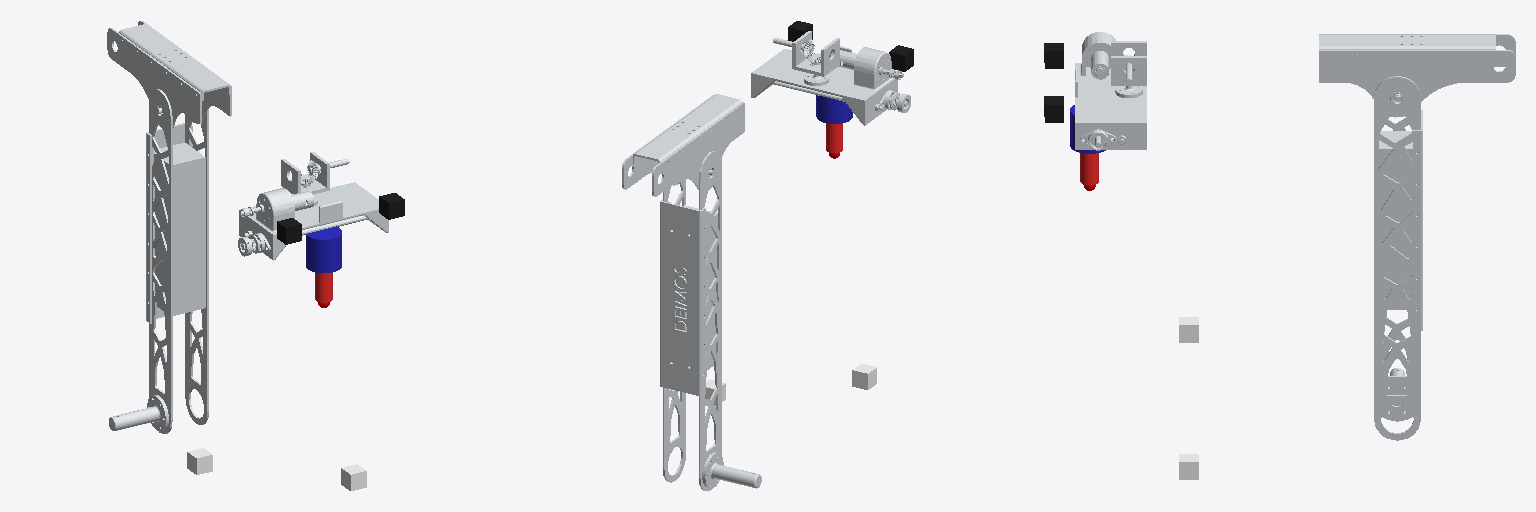
--- What the picture shows (computed from the rendered views, not written in the file) ---
3 views of the same robot in one strip: view 1: azimuth 30°, elevation 25°; view 2: azimuth 150°, elevation 25°; view 3: azimuth 270°, elevation 25° (orthographic).
Robot: Arm_Urdf — 18 links, 17 joints (6 revolute, 1 prismatic, 10 fixed); root link world; default pose: every joint at zero.
Visible links, largest first — view 1: Link_2, Link_3, Link_6, pointer_base, Link_5, camera_link_gripper_left, camera_link_base_left, camera_link_base_right, pointer_tip, camera_link_gripper_right; view 2: Link_2, Link_6, Link_3, Link_5, pointer_base, camera_link_base_right, pointer_tip; view 3: Link_2, Link_3, Link_6, Link_5, pointer_tip, camera_link_gripper_left.
Boxes of the visible links, left/top/right/bottom form: Link_2: left=109, top=89, right=208, bottom=433; Link_3: left=107, top=21, right=231, bottom=128; Link_6: left=238, top=174, right=388, bottom=260; pointer_base: left=306, top=226, right=341, bottom=272; Link_5: left=281, top=152, right=349, bottom=194; camera_link_gripper_left: left=379, top=193, right=404, bottom=219; camera_link_base_left: left=341, top=464, right=366, bottom=490; camera_link_base_right: left=187, top=448, right=212, bottom=474; pointer_tip: left=315, top=273, right=332, bottom=307; camera_link_gripper_right: left=277, top=218, right=301, bottom=244; Link_2: left=660, top=151, right=761, bottom=490; Link_6: left=751, top=46, right=910, bottom=125; Link_3: left=622, top=94, right=744, bottom=196; Link_5: left=773, top=31, right=839, bottom=76; pointer_base: left=816, top=95, right=852, bottom=123; camera_link_base_right: left=852, top=363, right=876, bottom=389; pointer_tip: left=826, top=123, right=842, bottom=158; Link_2: left=1374, top=76, right=1422, bottom=440; Link_3: left=1319, top=34, right=1515, bottom=117; Link_6: left=1075, top=32, right=1146, bottom=150; Link_5: left=1111, top=41, right=1146, bottom=85; pointer_tip: left=1080, top=153, right=1098, bottom=190; camera_link_gripper_left: left=1044, top=96, right=1063, bottom=122.
Size in the robot's own frame: 0.265 by 0.5985 by 0.555 metres.
Meshes: 7 distinct files referenced, 4 mesh visuals loaded (4 binary STL); not drawn: 3 (reference not matched to a file when rendering).

URDF robot description (Arm_Urdf):
<?xml version="1.0" encoding="utf-8" ?>
<!-- This URDF was automatically created by SolidWorks to URDF Exporter! Originally created by Stephen Brawner ([email redacted]) 
     Commit Version: 1.6.0-4-g7f85cfe  Build Version: 1.6.7995.38578
     For more information, please see http://wiki.ros.org/sw_urdf_exporter -->
<robot name="Arm_Urdf">
    <material name="black">
        <color rgba="0.15 0.15 0.15 1.0"/>
    </material>
    <material name="red">
        <color rgba="0.8 0.2 0.2 1.0"/>
    </material>
    <link name="base_link">
        <inertial>
            <origin xyz="-0.0108454625152952 5.41174924359317E-05 0.006809784336333" rpy="0 0 0" />
            <mass value="0.77116648882986" />
            <inertia ixx="0.000698139677914449" ixy="-9.98098781596937E-09" ixz="-4.42589020292821E-09" iyy="0.000247085234791679" iyz="-7.75794099442475E-09" izz="0.000718421438540256" />
        </inertial>
        <visual>
            <origin xyz="0 0 0" rpy="0 0 0" />
            <geometry>
                <mesh filename="package://arm_control/meshes/base_link.STL" />
            </geometry>
            <material name="">
                <color rgba="0.650980392156863 0.619607843137255 0.588235294117647 1" />
            </material>
        </visual>
        <collision>
            <origin xyz="0 0 0" rpy="0 0 0" />
            <geometry>
                <mesh filename="package://arm_control/meshes/base_link.STL" />
            </geometry>
        </collision>
    </link>
    <link name="world" />
    <joint name="world_joint" type="fixed">
        <origin xyz="0 0 0.0" rpy="0 0 0" />
        <parent link="world" />
        <child link="base_link" />
    </joint>
    <link name="Link_1">
        <inertial>
            <origin xyz="0.00202559488051276 0.0292417340051791 0.0299779266003479" rpy="0 0 0" />
            <mass value="2.19576081627391" />
            <inertia ixx="0.00622314668686051" ixy="2.69943075030139E-08" ixz="-1.96744672740614E-07" iyy="0.00460468862088576" iyz="-6.43893757821027E-05" izz="0.00970799857789177" />
        </inertial>
        <visual>
            <origin xyz="0 0 0" rpy="0 0 0" />
            <geometry>
                <mesh filename="package://arm_control/meshes/Link_1.STL" />
            </geometry>
            <material name="">
                <color rgba="0.529411764705882 0.549019607843137 0.549019607843137 1" />
            </material>
        </visual>
        <collision>
            <origin xyz="0 0 0" rpy="0 0 0" />
            <geometry>
                <mesh filename="package://arm_control/meshes/Link_1.STL" />
            </geometry>
        </collision>
    </link>
    <joint name="Joint_1" type="revolute">
        <origin xyz="0 0 0.073" rpy="0 0 0" />
        <parent link="base_link" />
        <child link="Link_1" />
        <axis xyz="0 0 1" />
        <limit lower="-3.17" upper="3.17" effort="50" velocity="5" />
        <dynamics damping="0.5" friction="0.1"/>
    </joint>

    <!-- camera base left -->
    <joint name="camera_joint_base_left" type="fixed">
        <axis xyz="0 1 0"/>
        <origin rpy="0 0 -1.57" xyz="0.12 -0.15 0.02"/>
        <parent link="Link_1"/>
        <child link="camera_link_base_left"/>
    </joint>

    <link name="camera_link_base_left">
        <inertial>
            <mass value="1e-5"/>
            <origin rpy="0 0 0" xyz="0 -0.02 0.02"/>
            <inertia ixx="1e-6" ixy="0" ixz="0" iyy="1e-6" iyz="0" izz="1e-6"/>
        </inertial>
        <collision>
            <origin rpy="0 0 -1.570" xyz="0 0 0"/>
            <geometry>
                <box size="0.025 0.025 0.025"/>
            </geometry>
        </collision>
        <visual>
            <origin rpy="0 0 -1.570" xyz="0 0 0"/>
            <geometry>
                <box size="0.025 0.025 0.025"/>
            </geometry>
            <material name="black">
                <color rgba="1 1 1 1"/>
            </material>
        </visual>
    </link>

    <joint name="camera_optical_joint_base_left" type="fixed">
        <parent link="camera_link_base_left"/>
        <child link="camera_link_optical_base_left"/>
        <origin xyz="0 0 0" rpy="-1.5707963 0 -1.5707963"/>
    </joint>

    <link name="camera_link_optical_base_left"></link>

    <!-- camera base right -->
    <joint name="camera_base_joint_right" type="fixed">
        <axis xyz="0 1 0"/>
        <origin rpy="0 0 -1.57" xyz="-0.12 -0.15 0.1"/>
        <parent link="Link_1"/>
        <child link="camera_link_base_right"/>
    </joint>

    <link name="camera_link_base_right">
        <inertial>
            <mass value="1e-5"/>
            <origin rpy="0 0 0" xyz="0 -0.02 0.02"/>
            <inertia ixx="1e-6" ixy="0" ixz="0" iyy="1e-6" iyz="0" izz="1e-6"/>
        </inertial>
        <collision>
            <origin rpy="0 0 -1.570" xyz="0 0 0"/>
            <geometry>
                <box size="0.025 0.025 0.025"/>
            </geometry>
        </collision>
        <visual>
            <origin rpy="0 0 -1.570" xyz="0 0 0"/>
            <geometry>
                <box size="0.025 0.025 0.025"/>
            </geometry>
            <material name="black">
                <color rgba="1 1 1 1"/>
            </material>
        </visual>
    </link>

    <joint name="camera_optical_joint_base_right" type="fixed">
        <parent link="camera_link_base_right"/>
        <child link="camera_link_optical_base_right"/>
        <origin xyz="0 0 0" rpy="-1.5707963 0 -1.5707963"/>
    </joint>

    <link name="camera_link_optical_base_right"></link>

    <link name="Link_2">
        <inertial>
            <origin xyz="0.0039680486454326 0.217484463914853 0.0226240865668204" rpy="0 0 0" />
            <mass value="0.696616277349387" />
            <inertia ixx="0.00867448656134372" ixy="-1.47433814721146E-05" ixz="-2.58004719868412E-09" iyy="0.000403909974825226" iyz="4.87457749930191E-10" izz="0.00872331013959563" />
        </inertial>
        <visual>
            <origin xyz="0 0 0" rpy="0 0 0" />
            <geometry>
                <mesh filename="package://arm_control/meshes/Link_2.STL" />
            </geometry>
            <material name="">
                <color rgba="0.898039215686275 0.917647058823529 0.929411764705882 1" />
            </material>
        </visual>

        <collision>
            <origin xyz="0 0 0" rpy="0 0 0" />
            <geometry>
                <mesh filename="package://arm_control/meshes/Link_2.STL" />
            </geometry>
        </collision>
    </link>

    <joint name="Joint_2" type="revolute">
        <origin xyz="-0.0299999999999999 0.114999999999999 0.0450000000000004" rpy="1.5707963267949 0 1.5707963267949" />
        <parent link="Link_1" />
        <child link="Link_2" />
        <axis xyz="0 0 -1" />
        <limit lower="-1.570" upper="1.57" effort="50" velocity="5" />
        <dynamics damping="0.5" friction="0.1"/>
    </joint>
    <link name="Link_3">
        <inertial>
            <origin xyz="0.0159437073865258 0.0399778044221051 0.000165930315254696" rpy="0 0 0" />
            <mass value="0.504770554183686" />
            <inertia ixx="0.000217244480297463" ixy="-3.21837262846156E-05" ixz="1.05210946108765E-18" iyy="0.00156585111098331" iyz="-2.22489334296148E-07" izz="0.00165843696768256" />
        </inertial>
        <visual>
            <origin xyz="0 0 0" rpy="0 0 0" />
            <geometry>
                <mesh filename="package://arm_control/meshes/Link_3.STL" />
            </geometry>
            <material name="">
                <color rgba="0.898039215686275 0.917647058823529 0.929411764705882 1" />
            </material>
        </visual>
        <collision>
            <origin xyz="0 0 0" rpy="0 0 0" />
            <geometry>
                <mesh filename="package://arm_control/meshes/Link_3.STL" />
            </geometry>
        </collision>
    </link>
    <joint name="Joint_3" type="revolute">
        <origin xyz="0 0.45 0.0301042347134805" rpy="0 0 0" />
        <parent link="Link_2" />
        <child link="Link_3" />
        <axis xyz="0 0 -1" />
        <limit lower="-1.00" upper="1.00" effort="50" velocity="5" />
        <dynamics damping="0.5" friction="0.10"/>
    </joint>
    <link name="Link_4">
        <inertial>
            <origin xyz="0.00264954149583032 0.00172553243144247 -0.256832165659789" rpy="0 0 0" />
            <mass value="0.739327182415655" />
            <inertia ixx="0.00148243608862922" ixy="-2.48364112345643E-07" ixz="-1.03283742873345E-07" iyy="0.00143272022403598" iyz="5.43371774425014E-06" izz="0.000309171282333902" />
        </inertial>
        <visual>
            <origin xyz="0 0 0" rpy="0 0 0" />
            <geometry>
                <mesh filename="package://arm_control/meshes/Link_4.STL" />
            </geometry>
            <material name="">
                <color rgba="0.898039215686275 0.917647058823529 0.929411764705882 1" />
            </material>
        </visual>
        <collision>
            <origin xyz="0 0 0" rpy="0 0 0" />
            <geometry>
                <mesh filename="package://arm_control/meshes/Link_4.STL" />
            </geometry>
        </collision>
    </link>
    <joint name="Joint_4" type="revolute">
        <origin xyz="0.0424999999995649 0.0399572355492206 0.000401106428108807" rpy="0 1.5707963267949 0" />
        <parent link="Link_3" />
        <child link="Link_4" />
        <axis xyz="0 0 1" />
        <limit lower="-3.17" upper="3.17" effort="50" velocity="5" />
        <dynamics damping="0.5" friction="0.1"/>
    </joint>
    <link name="Link_5">
        <inertial>
            <origin xyz="-3.16885406803635E-13 -0.00981221204232474 0.00224881068265584" rpy="0 0 0" />
            <mass value="0.0763957117756357" />
            <inertia ixx="3.83083473961502E-05" ixy="3.17560849313193E-16" ixz="2.01751281333396E-17" iyy="4.00747073118559E-05" iyz="-4.08795655667539E-17" izz="2.28558461666204E-05" />
        </inertial>
        <visual>
            <origin xyz="0 0 0" rpy="0 0 0" />
            <geometry>
                <mesh filename="package://arm_control/meshes/Link_5.STL" />
            </geometry>
            <material name="">
                <color rgba="0.898039215686275 0.917647058823529 0.929411764705882 1" />
            </material>
        </visual>
        <collision>
            <origin xyz="0 0 0" rpy="0 0 0" />
            <geometry>
                <mesh filename="package://arm_control/meshes/Link_5.STL" />
            </geometry>
            <surface>
                <contact>
                    <ode>
                        <kp>1e6</kp>
                        <kd>1</kd>
                    </ode>
                </contact>
                <friction>
                    <ode>
                        <mu>1.0</mu>                        <!-- Static friction coefficient -->
                        <mu2>1.0</mu2>                        <!-- Sliding friction coefficient -->
                    </ode>
                </friction>
            </surface>
        </collision>
    </link>
    <joint name="Joint_5" type="revolute">
        <origin xyz="-0.00649999999995384 0 -0.383499999999573" rpy="0 1.5707963267949 0" />
        <parent link="Link_4" />
        <child link="Link_5" />
        <axis xyz="0 0 1" />
        <limit lower="-0.065" upper="3.17" effort="50" velocity="5" />
        <dynamics damping="0.5" friction="0.10"/>
    </joint>
    <link name="Link_6">
        <inertial>
            <origin xyz="0.0135613456334422 -0.0265420912928073 0.0301408683365089" rpy="0 0 0" />
            <mass value="0.252745339929401" />
            <inertia ixx="0.000195067050160143" ixy="2.5230798194637E-05" ixz="6.2223463246536E-05" iyy="0.000903429764130728" iyz="-1.48620728173967E-05" izz="0.000993241239460536" />
        </inertial>
        <visual>
            <origin xyz="0 0 0" rpy="0 0 0" />
            <geometry>
                <mesh filename="package://arm_control/meshes/Link_6.STL" />
            </geometry>
            <material name="">
                <color rgba="0.898039215686275 0.917647058823529 0.929411764705882 1" />
            </material>
        </visual>
        <collision>
            <origin xyz="0 0 0" rpy="0 0 0" />
            <geometry>
                <mesh filename="package://arm_control/meshes/Link_6.STL" />
            </geometry>
            <surface>
                <contact>
                    <ode>
                        <kp>1e6</kp>
                        <kd>1</kd>
                    </ode>
                </contact>
                <friction>
                    <ode>
                        <mu>1.0</mu>                        <!-- Static friction coefficient -->
                        <mu2>1.0</mu2>                        <!-- Sliding friction coefficient -->
                    </ode>
                </friction>
            </surface>
        </collision>
    </link>
    <joint name="Joint_6" type="revolute">
        <origin xyz="0 -0.0199999999999119 0.00650441096988074" rpy="1.5707963267949 -1.5707963267949 0" />
        <parent link="Link_5" />
        <child link="Link_6" />
        <axis xyz="0 0 1" />
        <limit lower="-3.17" upper="3.17" effort="50" velocity="5" />
        <dynamics damping="0.5" friction="0.10"/>
    </joint>

    <!-- camera gripper left (kept as requested) -->
    <joint name="camera_joint_gripper_1" type="fixed">
        <axis xyz="0 1 0"/>
        <origin rpy="0 -1.57 1.57" xyz="-0.08 -0.095 0.012"/>
        <parent link="Link_6"/>
        <child link="camera_link_gripper_left"/>
    </joint>

    <link name="camera_link_gripper_left">
        <inertial>
            <mass value="1e-5"/>
            <origin rpy="0 0 0" xyz="-0.08 -0.095 0.012"/>
            <inertia ixx="1e-6" ixy="0" ixz="0" iyy="1e-6" iyz="0" izz="1e-6"/>
        </inertial>
        <collision>
            <origin rpy="0 0 0" xyz="0 0 0"/>
            <geometry>
                <box size="0.025 0.025 0.025"/>
            </geometry>
        </collision>
        <visual>
            <origin rpy="0 0 0" xyz="0 0 0"/>
            <geometry>
                <box size="0.025 0.025 0.025"/>
            </geometry>
            <material name="black"/>
        </visual>
    </link>

    <joint name="camera_optical_joint_gripper_1" type="fixed">
        <parent link="camera_link_gripper_left"/>
        <child link="camera_link_optical_gripper_1"/>
        <origin xyz="0 0 0" rpy="-1.5707963 0 -1.5707963"/>
    </joint>

    <link name="camera_link_optical_gripper_1"></link>

    <!-- camera gripper right (kept as requested) -->
    <joint name="camera_joint_gripper_2" type="fixed">
        <axis xyz="0 1 0"/>
        <origin rpy="0 -1.57 1.57" xyz="0.08 -0.095 0.012"/>
        <parent link="Link_6"/>
        <child link="camera_link_gripper_right"/>
    </joint>

    <link name="camera_link_gripper_right">
        <inertial>
            <mass value="1e-5"/>
            <origin rpy="0 0 0" xyz="0.08 -0.095 -0.012"/>
            <inertia ixx="1e-6" ixy="0" ixz="0" iyy="1e-6" iyz="0" izz="1e-6"/>
        </inertial>
        <collision>
            <origin rpy="0 0 0" xyz="0 0 0"/>
            <geometry>
                <box size="0.025 0.025 0.025"/>
            </geometry>
        </collision>
        <visual>
            <origin rpy="0 0 0" xyz="0 0 0"/>
            <geometry>
                <box size="0.025 0.025 0.025"/>
            </geometry>
            <material name="black"/>
        </visual>
    </link>

    <joint name="camera_optical_joint_gripper_2" type="fixed">
        <parent link="camera_link_gripper_right"/>
        <child link="camera_link_optical_gripper_2"/>
        <origin xyz="0 0 0" rpy="-1.5707963 0 -1.5707963"/>
    </joint>

    <link name="camera_link_optical_gripper_2"></link>

    <!-- POINTER MECHANISM - Replaces the gripper -->
    <!-- Main pointer body -->
    <link name="pointer_base">
        <inertial>
            <origin xyz="0 0 0.025" rpy="0 0 0" />
            <mass value="0.1" />
            <inertia ixx="1e-4" ixy="0" ixz="0" iyy="1e-4" iyz="0" izz="1e-4" />
        </inertial>
        <visual>
            <origin xyz="0 0 0.025" rpy="0 0 0" />
            <geometry>
                <cylinder radius="0.025" length="0.05"/>
            </geometry>
            <material name="">
                <color rgba="0.2 0.2 0.8 1" />
            </material>
        </visual>
        <collision>
            <origin xyz="0 0 0.025" rpy="0 0 0" />
            <geometry>
                <cylinder radius="0.025" length="0.05"/>
            </geometry>
            <surface>
                <contact>
                    <ode>
                        <kp>1e6</kp>
                        <kd>1</kd>
                    </ode>
                </contact>
                <friction>
                    <ode>
                        <mu>1.0</mu>
                        <mu2>1.0</mu2>
                    </ode>
                </friction>
            </surface>
        </collision>
    </link>

    <!-- Extendable pointer tip -->
    <link name="pointer_tip">
        <inertial>
            <origin xyz="0 0 0.04" rpy="0 0 0" />
            <mass value="0.03" />
            <inertia ixx="2e-5" ixy="0" ixz="0" iyy="2e-5" iyz="0" izz="1e-6" />
        </inertial>
        <visual>
            <origin xyz="0 0 0.025" rpy="0 0 0" />
            <geometry>
                <cylinder radius="0.012" length="0.05"/>
            </geometry>
            <material name="">
                <color rgba="1.0 0.2 0.2 1" />
            </material>
        </visual>
        <visual>
            <origin xyz="0 0 0.055" rpy="0 0 0" />
            <geometry>
                <sphere radius="0.008"/>
            </geometry>
            <material name="">
                <color rgba="1.0 0.0 0.0 1" />
            </material>
        </visual>
        <collision>
            <origin xyz="0 0 0.025" rpy="0 0 0" />
            <geometry>
                <cylinder radius="0.012" length="0.05"/>
            </geometry>
            <surface>
                <contact>
                    <ode>
                        <kp>1e7</kp>
                        <kd>10</kd>
                    </ode>
                </contact>
                <friction>
                    <ode>
                        <mu>0.8</mu>
                        <mu2>0.8</mu2>
                    </ode>
                </friction>
            </surface>
        </collision>
        <collision>
            <origin xyz="0 0 0.055" rpy="0 0 0" />
            <geometry>
                <sphere radius="0.008"/>
            </geometry>
            <surface>
                <contact>
                    <ode>
                        <kp>1e7</kp>
                        <kd>10</kd>
                    </ode>
                </contact>
                <friction>
                    <ode>
                        <mu>0.8</mu>
                        <mu2>0.8</mu2>
                    </ode>
                </friction>
            </surface>
        </collision>
    </link>

    <!-- Joint to attach pointer base to Link_6 -->
    <joint name="pointer_base_joint" type="fixed">
        <origin xyz="0 -0.05 0.05" rpy="0 0 0" />
        <parent link="Link_6" />
        <child link="pointer_base" />
    </joint>

    <!-- Prismatic joint for pointer extension/retraction -->
    <joint name="pointer_extend_joint" type="prismatic">
        <origin xyz="0 0 0.05" rpy="0 0 0" />
        <parent link="pointer_base" />
        <child link="pointer_tip" />
        <axis xyz="0 0 1" />
        <limit lower="0" upper="0.05" effort="50" velocity="5" />
        <dynamics damping="0.5" friction="0.1" />
    </joint>

    <!-- Transmissions for main joints -->
    <transmission name="trans_Joint_1">
        <type>transmission_interface/SimpleTransmission</type>
        <joint name="Joint_1">
            <hardwareInterface>hardware_interface/PositionJointInterface</hardwareInterface>
        </joint>
        <actuator name="Link_1_motor">
            <hardwareInterface>hardware_interface/PositionJointInterface</hardwareInterface>
            <mechanicalReduction>1</mechanicalReduction>
        </actuator>
    </transmission>
    <transmission name="trans_Joint_2">
        <type>transmission_interface/SimpleTransmission</type>
        <joint name="Joint_2">
            <hardwareInterface>hardware_interface/PositionJointInterface</hardwareInterface>
        </joint>
        <actuator name="Link_2_motor">
            <hardwareInterface>hardware_interface/PositionJointInterface</hardwareInterface>
            <mechanicalReduction>1</mechanicalReduction>
        </actuator>
    </transmission>
    <transmission name="trans_Joint_3">
        <type>transmission_interface/SimpleTransmission</type>
        <joint name="Joint_3">
            <hardwareInterface>hardware_interface/PositionJointInterface</hardwareInterface>
        </joint>
        <actuator name="Link_3_motor">
            <hardwareInterface>hardware_interface/PositionJointInterface</hardwareInterface>
            <mechanicalReduction>1</mechanicalReduction>
        </actuator>
    </transmission>
    <transmission name="trans_Joint_4">
        <type>transmission_interface/SimpleTransmission</type>
        <joint name="Joint_4">
            <hardwareInterface>hardware_interface/PositionJointInterface</hardwareInterface>
        </joint>
        <actuator name="Link_4_motor">
            <hardwareInterface>hardware_interface/PositionJointInterface</hardwareInterface>
            <mechanicalReduction>1</mechanicalReduction>
        </actuator>
    </transmission>
    <transmission name="trans_Joint_5">
        <type>transmission_interface/SimpleTransmission</type>
        <joint name="Joint_5">
            <hardwareInterface>hardware_interface/PositionJointInterface</hardwareInterface>
        </joint>
        <actuator name="Link_5_motor">
            <hardwareInterface>hardware_interface/PositionJointInterface</hardwareInterface>
            <mechanicalReduction>1</mechanicalReduction>
        </actuator>
    </transmission>
    <transmission name="trans_Joint_6">
        <type>transmission_interface/SimpleTransmission</type>
        <joint name="Joint_6">
            <hardwareInterface>hardware_interface/PositionJointInterface</hardwareInterface>
        </joint>
        <actuator name="Link_6_motor">
            <hardwareInterface>hardware_interface/PositionJointInterface</hardwareInterface>
            <mechanicalReduction>1</mechanicalReduction>
        </actuator>
    </transmission>

    <!-- Transmission for pointer extension -->
    <transmission name="trans_pointer_extend">
        <type>transmission_interface/SimpleTransmission</type>
        <joint name="pointer_extend_joint">
            <hardwareInterface>hardware_interface/PositionJointInterface</hardwareInterface>
        </joint>
        <actuator name="pointer_motor">
            <hardwareInterface>hardware_interface/PositionJointInterface</hardwareInterface>
            <mechanicalReduction>1</mechanicalReduction>
        </actuator>
    </transmission>

    <gazebo>
        <plugin name="gazebo_ros_control" filename="libgazebo_ros_control.so">
            <robotNamespace>/</robotNamespace>
        </plugin>
    </gazebo>

    <!-- Camera sensors (all kept as requested) -->
    <gazebo reference="camera_link_base_left">
        <sensor type="camera" name="camera_base">
            <visualize>true</visualize>
            <update_rate>30.0</update_rate>
            <camera name="head">
                <horizontal_fov>1.3962634</horizontal_fov>
                <image>
                    <width>800</width>
                    <height>800</height>
                    <format>R8G8B8</format>
                </image>
                <clip>
                    <near>0.02</near>
                    <far>300</far>
                </clip>
                <noise>
                    <type>gaussian</type>
                    <!-- Noise is sampled independently per pixel on each frame.
                That pixel's noise value is added to each of its color
                channels, which at that point lie in the range [0,1]. -->
                    <mean>0.0</mean>
                    <stddev>0.007</stddev>
                </noise>
            </camera>
            <plugin name="camera_controller" filename="libgazebo_ros_camera.so">
                <alwaysOn>true</alwaysOn>
                <updateRate>0.0</updateRate>
                <cameraName>camera_base_left</cameraName>
                <imageTopicName>image_raw</imageTopicName>
                <cameraInfoTopicName>camera_info</cameraInfoTopicName>
                <frameName>camera_link_base_left</frameName>
                <hackBaseline>0.07</hackBaseline>
                <distortionK1>0.0</distortionK1>
                <distortionK2>0.0</distortionK2>
                <distortionK3>0.0</distortionK3>
                <distortionT1>0.0</distortionT1>
                <distortionT2>0.0</distortionT2>
            </plugin>
        </sensor>
    </gazebo>

    <gazebo reference="camera_link_base_right">
        <sensor type="camera" name="camera_base_2">
            <visualize>true</visualize>
            <update_rate>30.0</update_rate>
            <camera name="head">
                <horizontal_fov>1.3962634</horizontal_fov>
                <image>
                    <width>800</width>
                    <height>800</height>
                    <format>R8G8B8</format>
                </image>
                <clip>
                    <near>0.02</near>
                    <far>300</far>
                </clip>
                <noise>
                    <type>gaussian</type>
                    <!-- Noise is sampled independently per pixel on each frame.
                That pixel's noise value is added to each of its color
                channels, which at that point lie in the range [0,1]. -->
                    <mean>0.0</mean>
                    <stddev>0.007</stddev>
                </noise>
            </camera>
            <plugin name="camera_controller" filename="libgazebo_ros_camera.so">
                <alwaysOn>true</alwaysOn>
                <updateRate>0.0</updateRate>
                <cameraName>camera_base_right</cameraName>
                <imageTopicName>image_raw</imageTopicName>
                <cameraInfoTopicName>camera_info</cameraInfoTopicName>
                <frameName>camera_base_right</frameName>
                <hackBaseline>0.07</hackBaseline>
                <distortionK1>0.0</distortionK1>
                <distortionK2>0.0</distortionK2>
                <distortionK3>0.0</distortionK3>
                <distortionT1>0.0</distortionT1>
                <distortionT2>0.0</distortionT2>
            </plugin>
        </sensor>
    </gazebo>

    <gazebo reference="camera_link_gripper_left">
        <sensor type="camera" name="camera_gripper_1">
            <visualize>true</visualize>
            <update_rate>30.0</update_rate>
            <camera name="head">
                <horizontal_fov>1.3962634</horizontal_fov>
                <image>
                    <width>800</width>
                    <height>800</height>
                    <format>R8G8B8</format>
                </image>
                <clip>
                    <near>0.02</near>
                    <far>300</far>
                </clip>
                <noise>
                    <type>gaussian</type>
                    <!-- Noise is sampled independently per pixel on each frame.
                That pixel's noise value is added to each of its color
                channels, which at that point lie in the range [0,1]. -->
                    <mean>0.0</mean>
                    <stddev>0.007</stddev>
                </noise>
            </camera>
            <plugin name="camera_controller" filename="libgazebo_ros_camera.so">
                <alwaysOn>true</alwaysOn>
                <updateRate>0.0</updateRate>
                <cameraName>camera_gripper_left</cameraName>
                <imageTopicName>image_raw</imageTopicName>
                <cameraInfoTopicName>camera_info</cameraInfoTopicName>
                <frameName>camera_link_gripper_left</frameName>
                <hackBaseline>0.07</hackBaseline>
                <distortionK1>0.0</distortionK1>
                <distortionK2>0.0</distortionK2>
                <distortionK3>0.0</distortionK3>
                <distortionT1>0.0</distortionT1>
                <distortionT2>0.0</distortionT2>
            </plugin>
        </sensor>
    </gazebo>

    <gazebo reference="camera_link_gripper_right">
        <sensor type="camera" name="camera_gripper_2">
            <visualize>true</visualize>
            <update_rate>30.0</update_rate>
            <camera name="head">
                <horizontal_fov>1.3962634</horizontal_fov>
                <image>
                    <width>800</width>
                    <height>800</height>
                    <format>R8G8B8</format>
                </image>
                <clip>
                    <near>0.02</near>
                    <far>300</far>
                </clip>
                <noise>
                    <type>gaussian</type>
                    <!-- Noise is sampled independently per pixel on each frame.
                That pixel's noise value is added to each of its color
                channels, which at that point lie in the range [0,1]. -->
                    <mean>0.0</mean>
                    <stddev>0.007</stddev>
                </noise>
            </camera>
            <plugin name="camera_controller" filename="libgazebo_ros_camera.so">
                <alwaysOn>true</alwaysOn>
                <updateRate>0.0</updateRate>
                <cameraName>camera_gripper_right</cameraName>
                <imageTopicName>image_raw</imageTopicName>
                <cameraInfoTopicName>camera_info</cameraInfoTopicName>
                <frameName>camera_link_gripper_right</frameName>
                <hackBaseline>0.07</hackBaseline>
                <distortionK1>0.0</distortionK1>
                <distortionK2>0.0</distortionK2>
                <distortionK3>0.0</distortionK3>
                <distortionT1>0.0</distortionT1>
                <distortionT2>0.0</distortionT2>
            </plugin>
        </sensor>
    </gazebo>

</robot>
